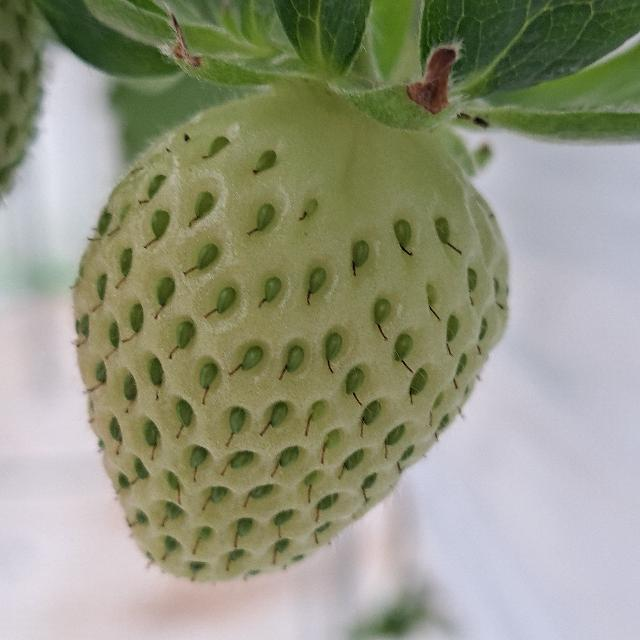Health_25: (72, 93, 510, 582)
